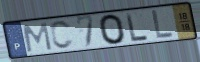7: (75, 13, 96, 50)
C: (49, 19, 76, 51)
L: (125, 12, 150, 43), (151, 9, 175, 40)
M: (21, 22, 54, 54)
O: (98, 13, 127, 46)
